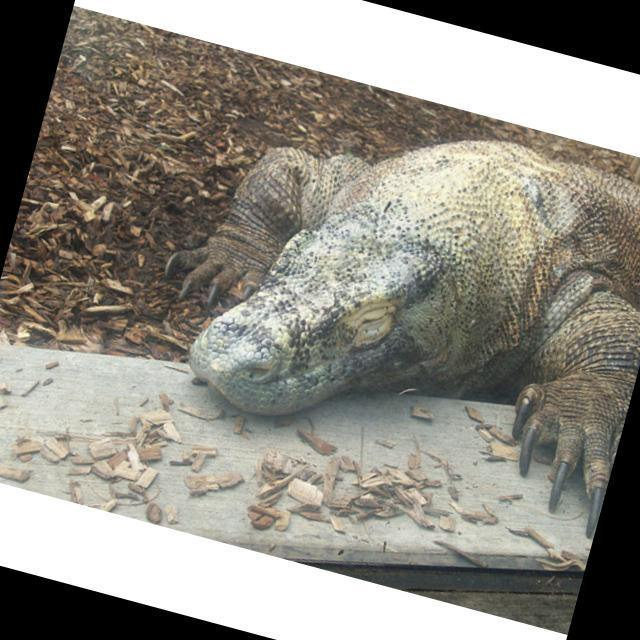KomodoDragon: (119, 60, 640, 534)
